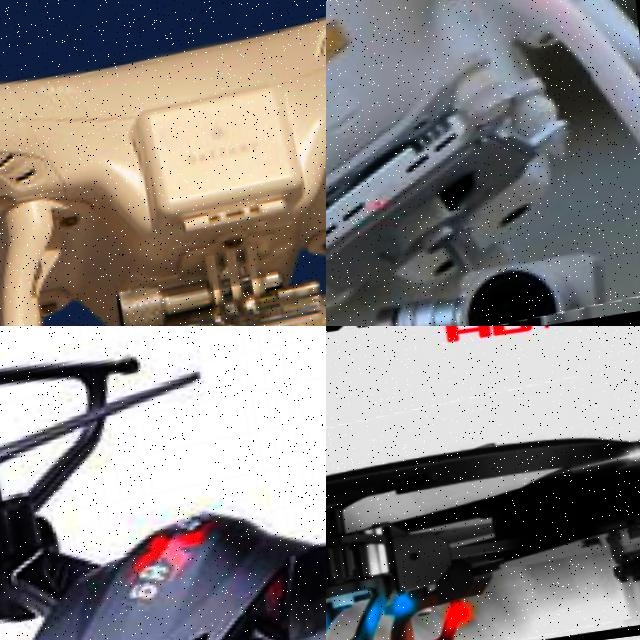drone: (0, 0, 326, 326), (326, 0, 640, 326), (0, 326, 326, 640), (326, 334, 640, 640)
